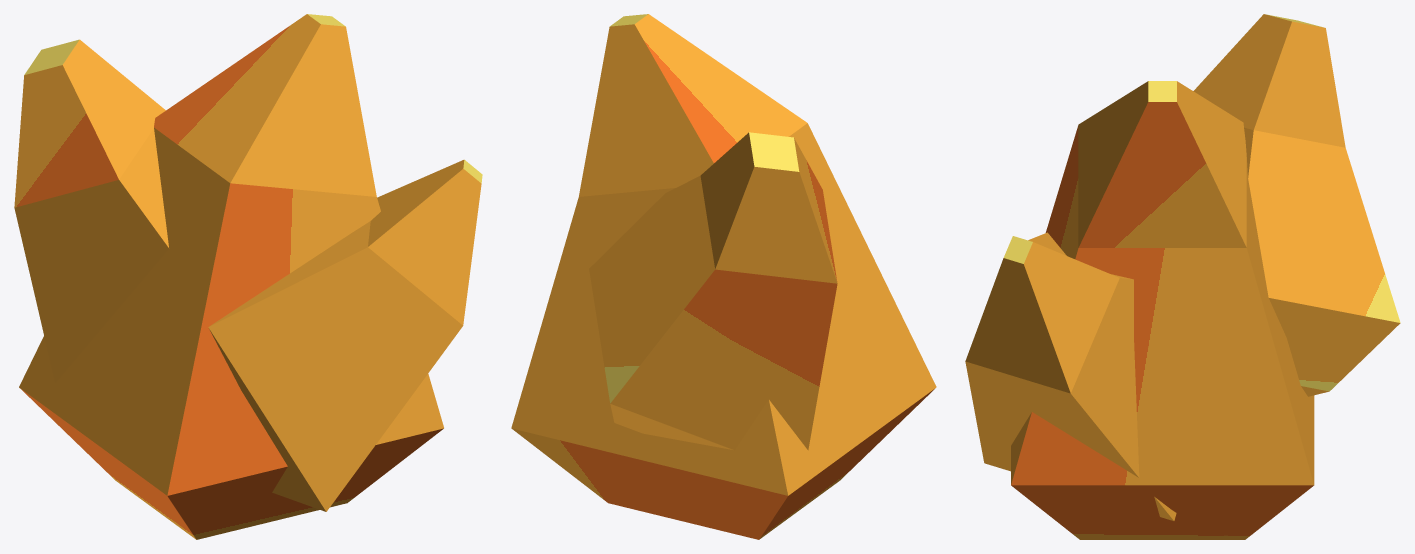
Rendered from crystall.fbx.
The picture shows the model from 3 angles, left to right: view 1: azimuth 30°, elevation 25°; view 2: azimuth 150°, elevation 25°; view 3: azimuth 270°, elevation 25°; orthographic projection. The views are drawn at different scales.
Visible parts, largest first — view 1: Cube.013; view 2: Cube.013; view 3: Cube.013.
Part boxes in pixels (x1,y1,x2,y2): Cube.013: (14,14,482,539); Cube.013: (511,14,936,539); Cube.013: (965,14,1400,539).
Bounding box in the file's own units: 152 × 184 × 157.
